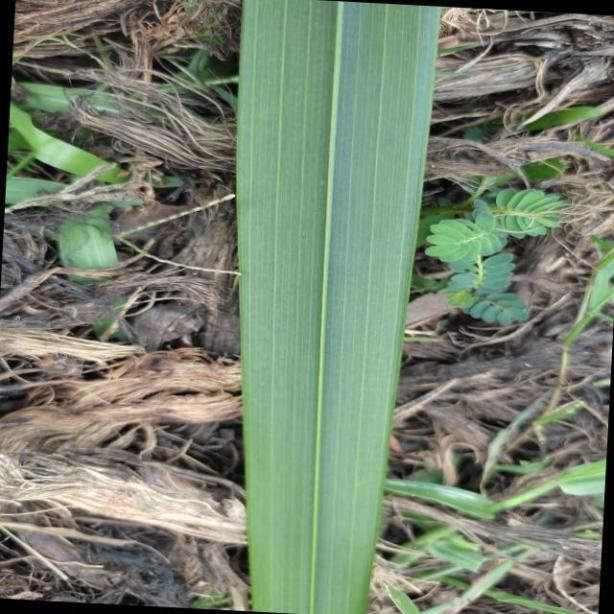Healthy: (238, 5, 438, 614)
